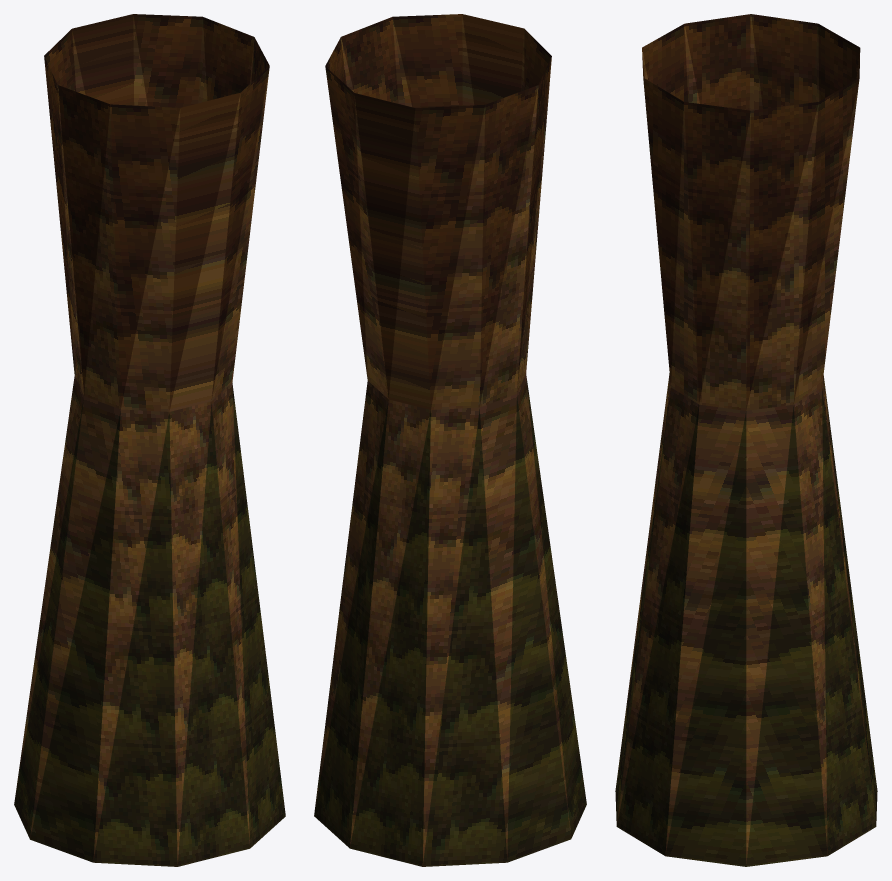
The model's file is primary_023.glb.
3 renders of one model, left to right at view 1: azimuth 30°, elevation 25°; view 2: azimuth 150°, elevation 25°; view 3: azimuth 270°, elevation 25°, orthographic.
Parts seen in each view (by area): view 1: Object; view 2: Object; view 3: Object.
Part boxes in pixels (x1,y1,x2,y2): Object: [14, 14, 285, 866]; Object: [314, 14, 586, 866]; Object: [615, 14, 877, 866].
Size of the model in its own units: 1.01 by 3.04 by 0.9611.
Materials: 3 (3 with a texture image).
